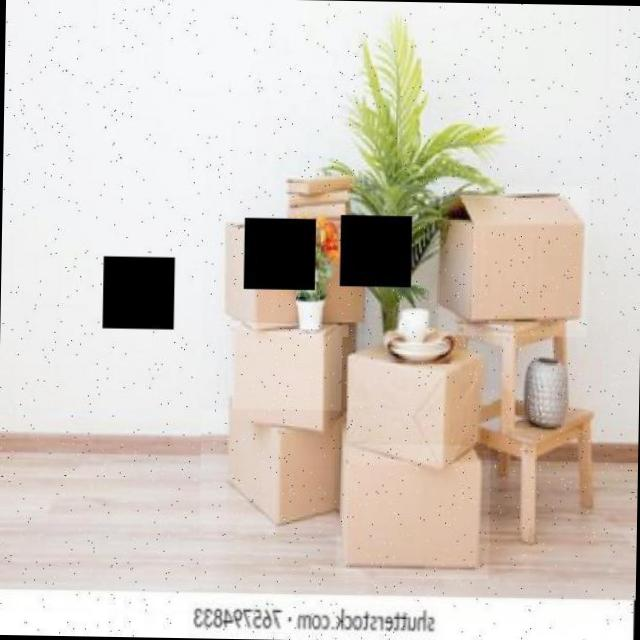box: (436, 184, 589, 338), (335, 443, 490, 579), (339, 336, 486, 473), (199, 408, 348, 536), (223, 216, 370, 334), (231, 322, 348, 437)
